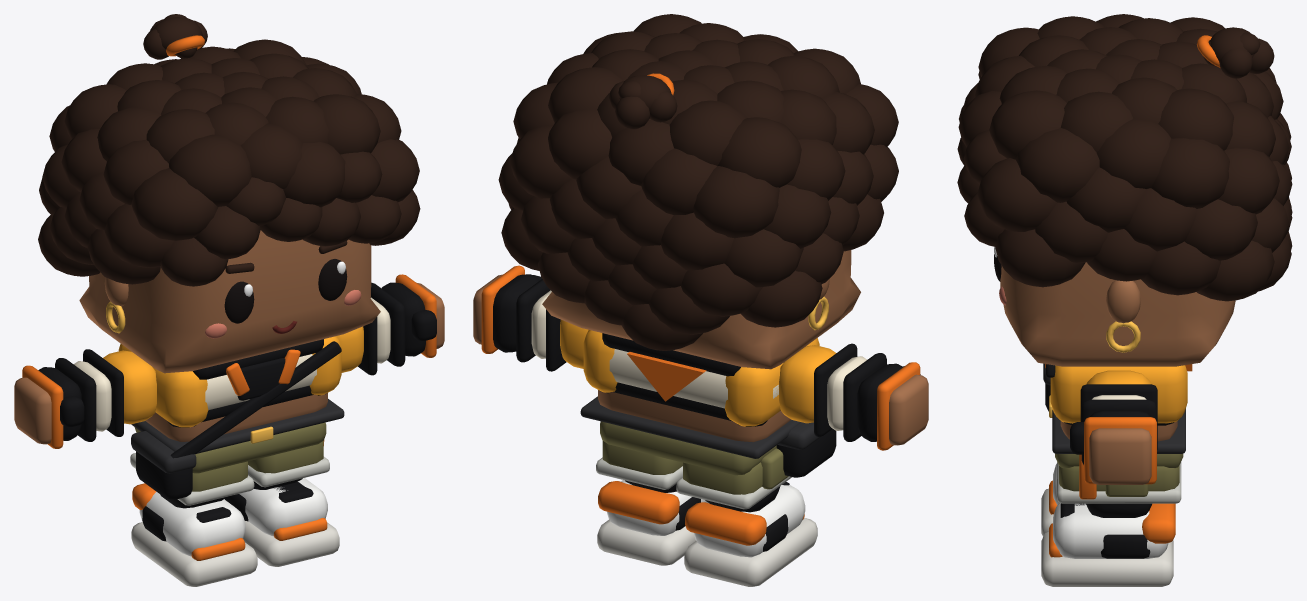
Rendered from yun_urban_chibi_v10.glb.
3 renders of one model, left to right at view 1: azimuth 30°, elevation 25°; view 2: azimuth 150°, elevation 25°; view 3: azimuth 270°, elevation 25°, orthographic. The views are drawn at different scales.
Visible parts, largest first — view 1: Hair_Curls, Head, Shoe_R, Shorts, Shoe_L, Arm_R, Jacket, Hand_R, Arm_L, Hand_L, Bag, Bag_Strap (+6 smaller); view 2: Hair_Curls, Shorts, Shoe_R, Jacket, Head, Arm_R, Shoe_L, Hand_R, Arm_L, Hand_L, Torso, Belt (+4 smaller); view 3: Hair_Curls, Head, Shoe_L, Hand_L, Jacket, Shorts, Arm_L, Hair_Ponytail, Belt, Leg_L, Shoe_R, Earrings.
Part boxes in pixels (x1,y1,x2,y2): Hair_Curls: [38, 39, 420, 286]; Head: [79, 230, 380, 373]; Shoe_R: [131, 483, 257, 586]; Shorts: [130, 422, 329, 505]; Shoe_L: [224, 478, 339, 566]; Arm_R: [55, 349, 156, 441]; Jacket: [118, 336, 341, 427]; Hand_R: [14, 365, 84, 448]; Arm_L: [337, 282, 405, 375]; Hand_L: [381, 274, 444, 357]; Bag: [131, 431, 196, 499]; Bag_Strap: [170, 341, 341, 458]; Hair_Curls: [498, 14, 898, 350]; Shorts: [596, 421, 791, 509]; Shoe_R: [684, 482, 817, 586]; Jacket: [583, 330, 819, 426]; Head: [542, 250, 860, 369]; Arm_R: [779, 343, 886, 441]; Shoe_L: [597, 480, 707, 565]; Hand_R: [857, 362, 928, 450]; Arm_L: [516, 279, 588, 371]; Hand_L: [473, 265, 541, 353]; Torso: [598, 390, 791, 442]; Belt: [580, 396, 801, 458]; Hair_Curls: [957, 14, 1292, 301]; Head: [1000, 262, 1235, 366]; Shoe_L: [1041, 503, 1175, 586]; Hand_L: [1070, 410, 1156, 484]; Jacket: [1050, 364, 1192, 423]; Shorts: [1055, 453, 1183, 503]; Arm_L: [1080, 370, 1157, 464]; Hair_Ponytail: [1203, 27, 1274, 78]; Belt: [1049, 395, 1185, 453]; Leg_L: [1086, 503, 1151, 517]; Shoe_R: [1041, 463, 1058, 536]; Earrings: [1106, 321, 1140, 352].
Bounding box in the file's own units: 0.5873 × 0.672 × 0.3921.
